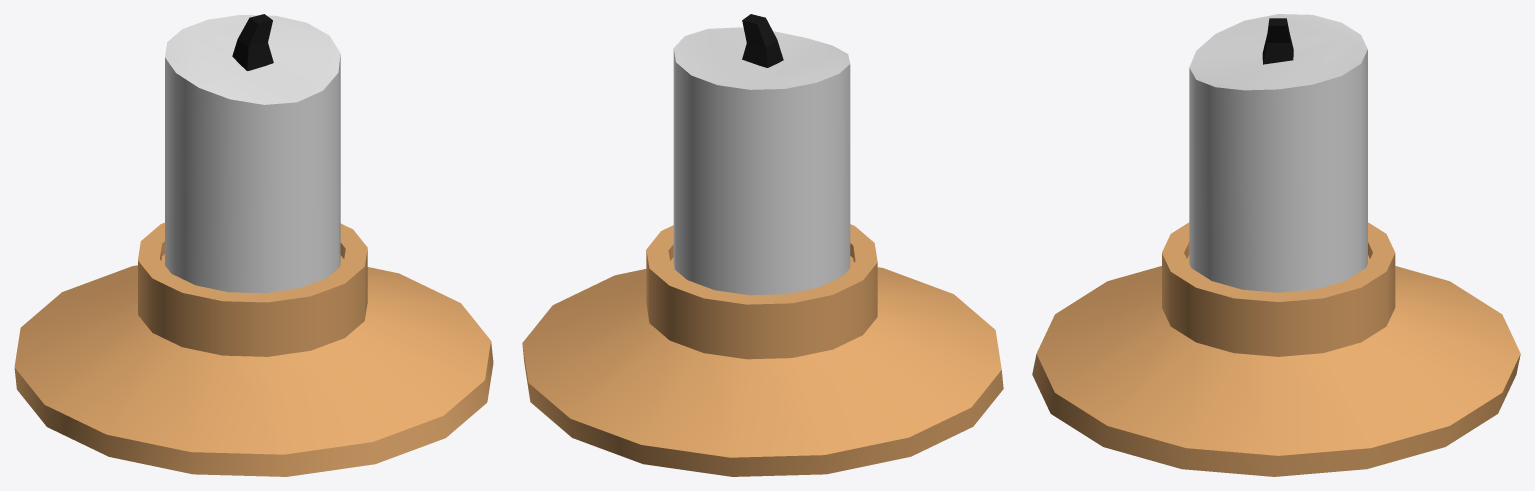
Rendered from hugecandle.fbx.
3 renders of one model, left to right at view 1: azimuth 30°, elevation 25°; view 2: azimuth 150°, elevation 25°; view 3: azimuth 270°, elevation 25°, orthographic.
Parts seen in each view (by area): view 1: hugecandle; view 2: hugecandle; view 3: hugecandle.
Part boxes in pixels (x1=…): hugecandle: x1=14, y1=14, x2=493, y2=476; hugecandle: x1=522, y1=14, x2=1003, y2=476; hugecandle: x1=1032, y1=14, x2=1520, y2=476.
Bounding box in the file's own units: 0.4003 × 0.325 × 0.4035.
